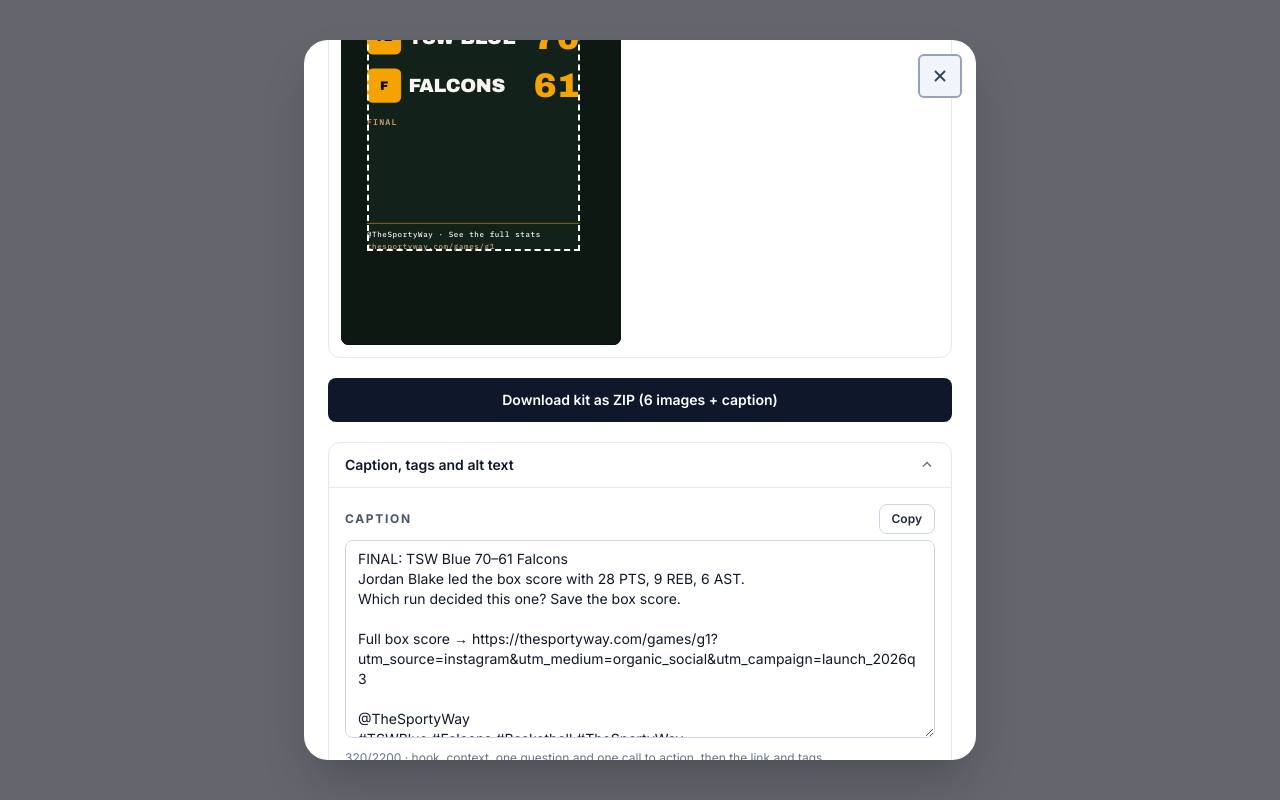
GameSocialKitModal › reports a failed render instead of producing a half-empty ZIP
(page scrolled)
Click the button "Download kit as ZIP (6 images + caption)" at (640, 400), box 328,378 -> 952,422
(page scrolled)
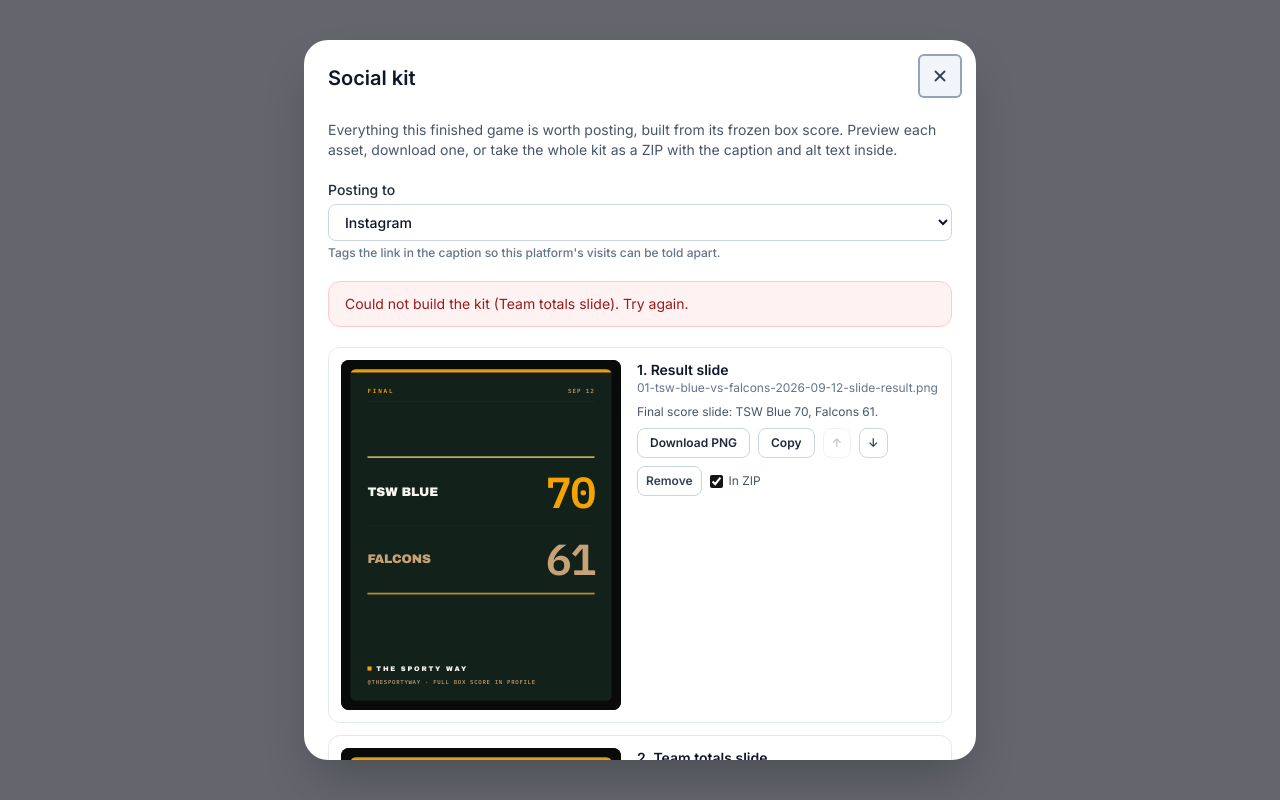
Result: the message shows "Could not build the kit" at 345,295 -> 688,312
